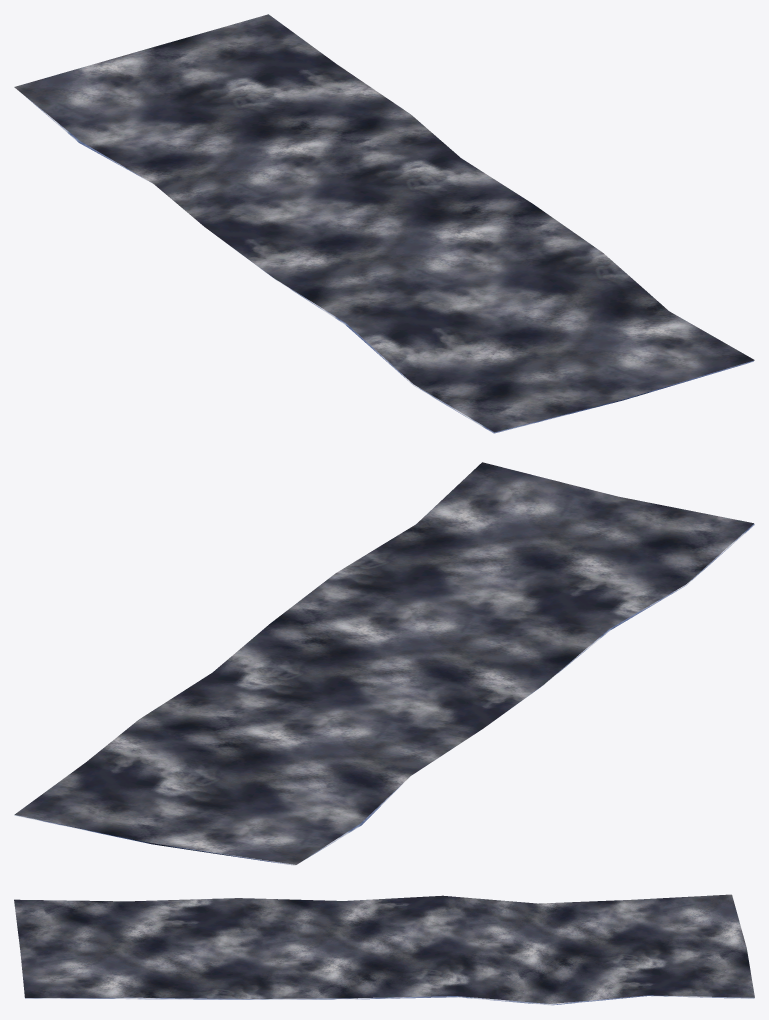
Rendered from LONE_MOUNTAIN_WATERFALLS_MAINWATER_TREASURY02.obj.
The picture shows the model from 3 angles, top to bottom: view 1: azimuth 30°, elevation 25°; view 2: azimuth 150°, elevation 25°; view 3: azimuth 270°, elevation 25°; orthographic projection. The views are drawn at different scales.
Parts seen in each view (by area): view 1: ater_treasury02; view 2: ater_treasury02; view 3: ater_treasury02.
Boxes of the visible parts, bbox=[...] form: ater_treasury02: bbox=[14, 14, 754, 433]; ater_treasury02: bbox=[14, 462, 754, 865]; ater_treasury02: bbox=[14, 894, 754, 1005].
Bounding box in the file's own units: 530 × 17.12 × 1595.
